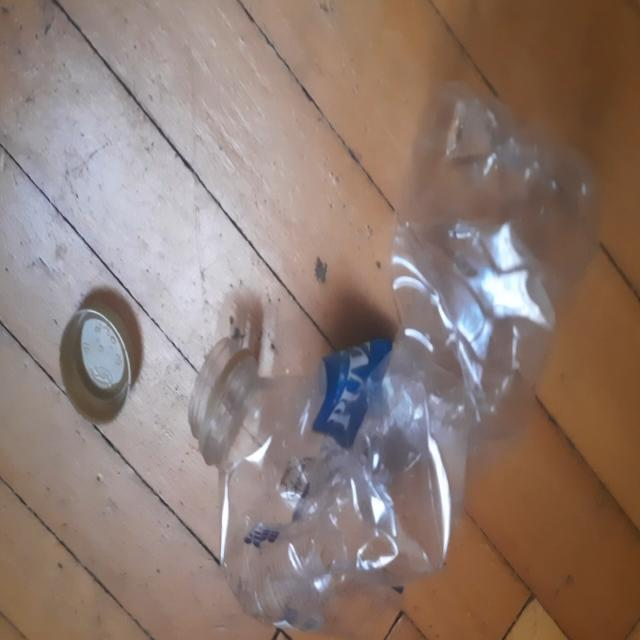Plastic: (188, 80, 600, 632)
